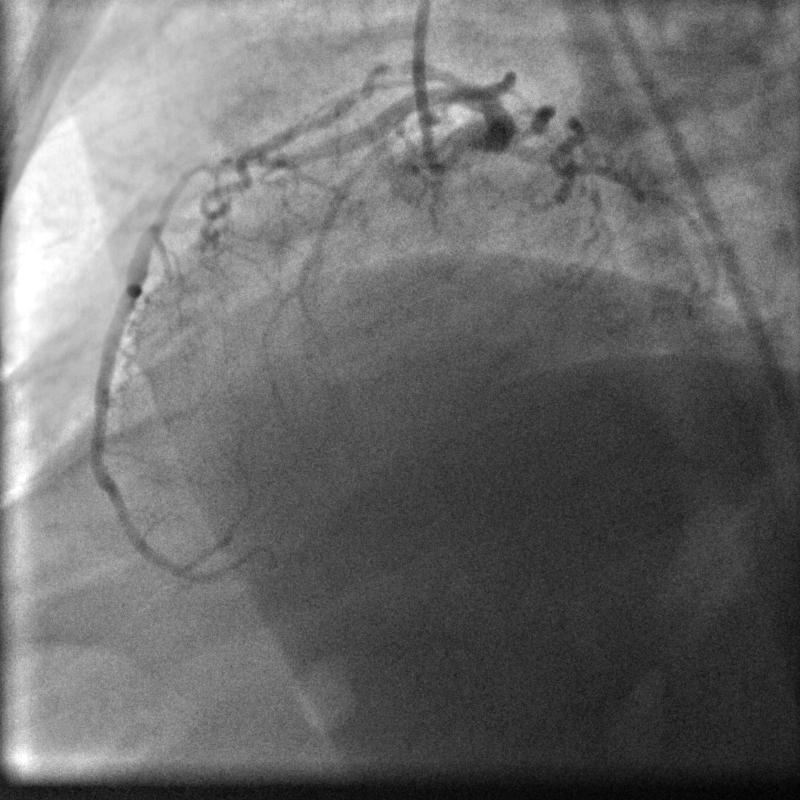Stenosis: (157, 158, 213, 222)
